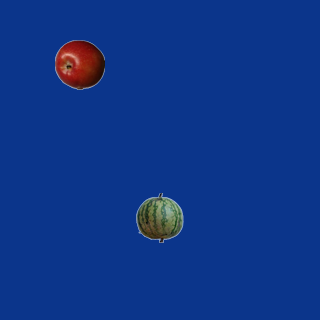Apple Braeburn: (54, 39, 104, 89)
Watermelon: (134, 192, 184, 242)
